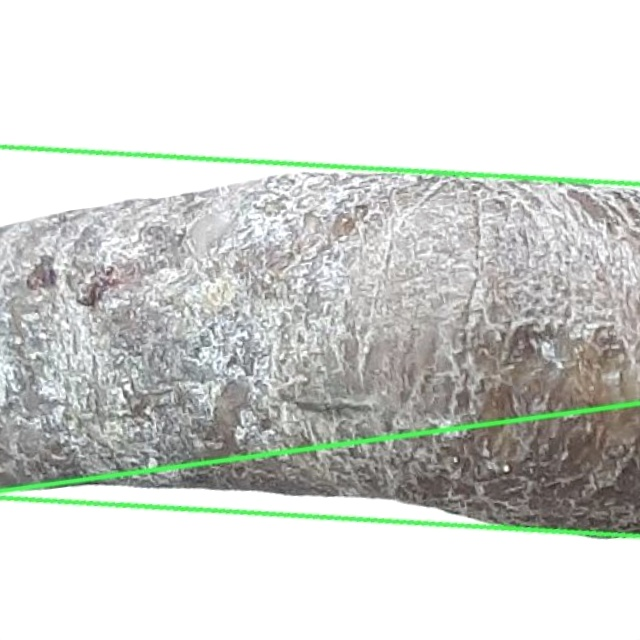Eczema: (0, 147, 639, 535), (0, 403, 639, 639)
